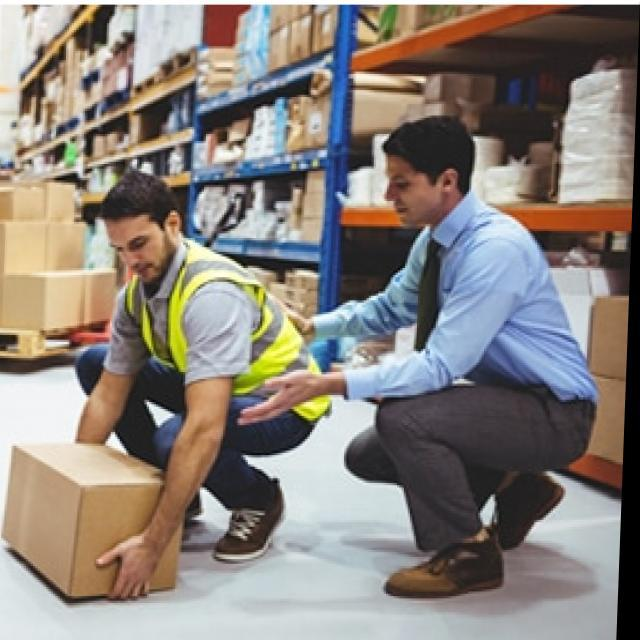vest: (116, 235, 341, 423)
